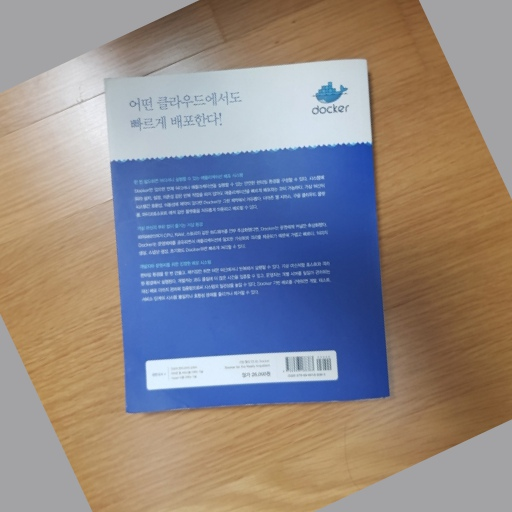Paper_0: (93, 53, 398, 420)
